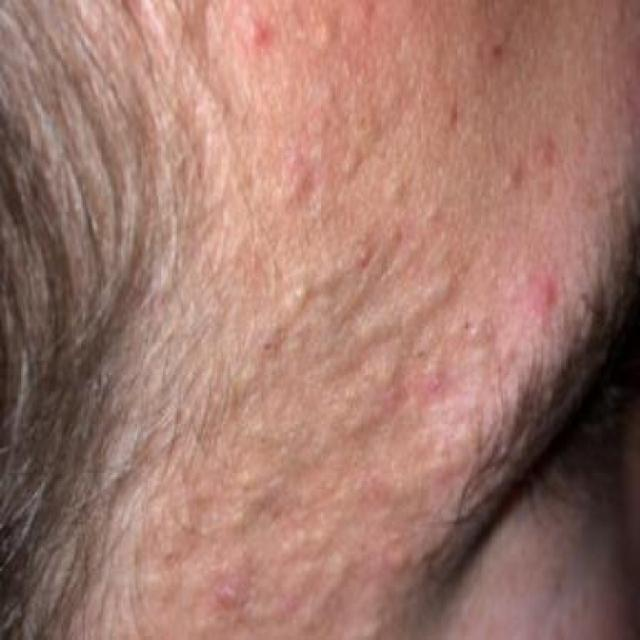whiteheads: (286, 509, 329, 558), (377, 163, 421, 208), (377, 550, 421, 593), (274, 277, 308, 330), (404, 188, 454, 224), (303, 261, 352, 297), (229, 348, 263, 398), (332, 412, 372, 454), (326, 542, 365, 585), (343, 232, 386, 271), (318, 63, 352, 112), (329, 153, 363, 202), (311, 292, 343, 342), (370, 354, 404, 398), (234, 444, 261, 498), (300, 118, 345, 149), (337, 373, 369, 416), (317, 18, 345, 57), (269, 536, 297, 569)
